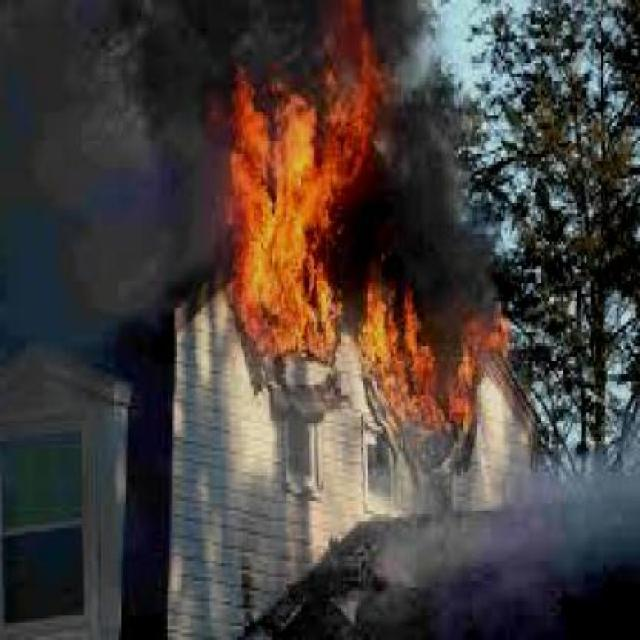Fire: (209, 24, 385, 370), (356, 242, 516, 430)
Smoke: (355, 475, 640, 623), (403, 0, 491, 269)
